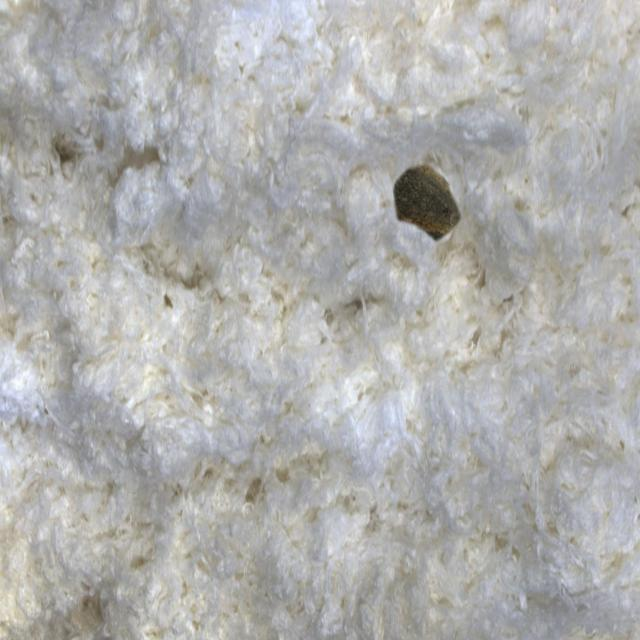dust: (375, 124, 497, 291)
